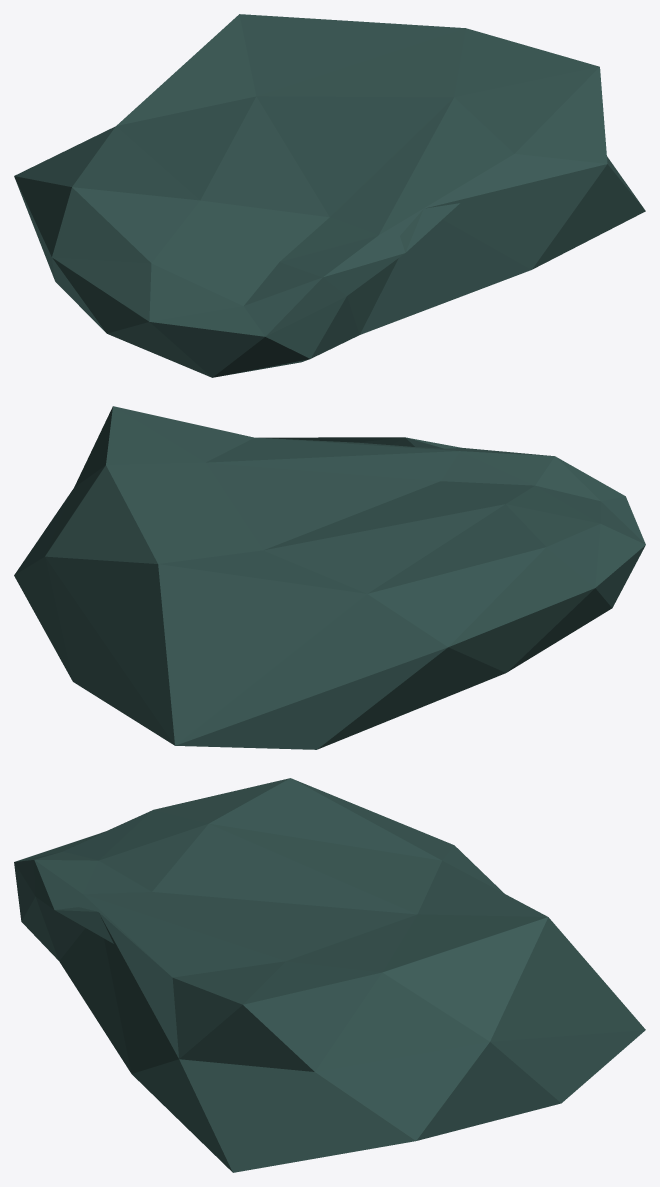
Rendered from stone005.fbx.
The picture shows the model from 3 angles, top to bottom: view 1: azimuth 30°, elevation 25°; view 2: azimuth 150°, elevation 25°; view 3: azimuth 270°, elevation 25°; orthographic projection. The views are drawn at different scales.
Parts seen in each view (by area): view 1: stone005; view 2: stone005; view 3: stone005.
Part boxes in pixels (bbox=[...]): stone005: bbox=[14, 14, 645, 377]; stone005: bbox=[14, 406, 645, 749]; stone005: bbox=[14, 778, 645, 1172].
Bounding box in the file's own units: 182 × 53.68 × 174.
